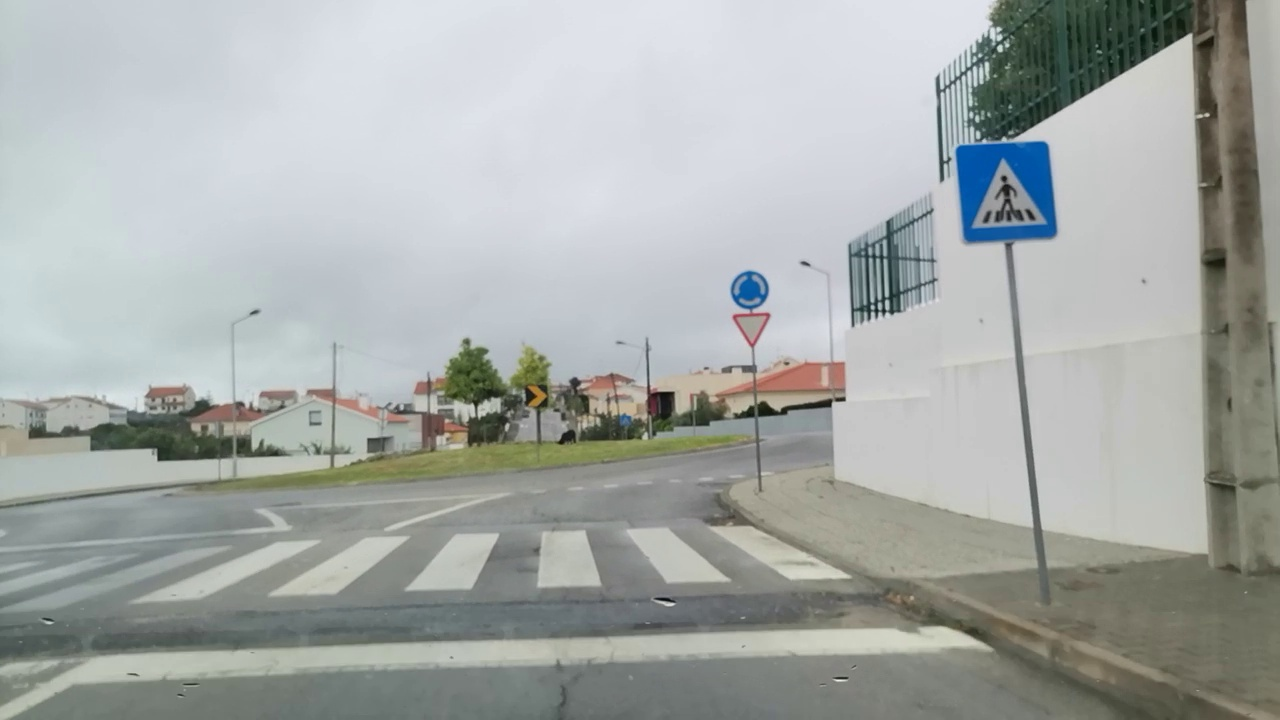Stairs: (0, 523, 850, 613)
